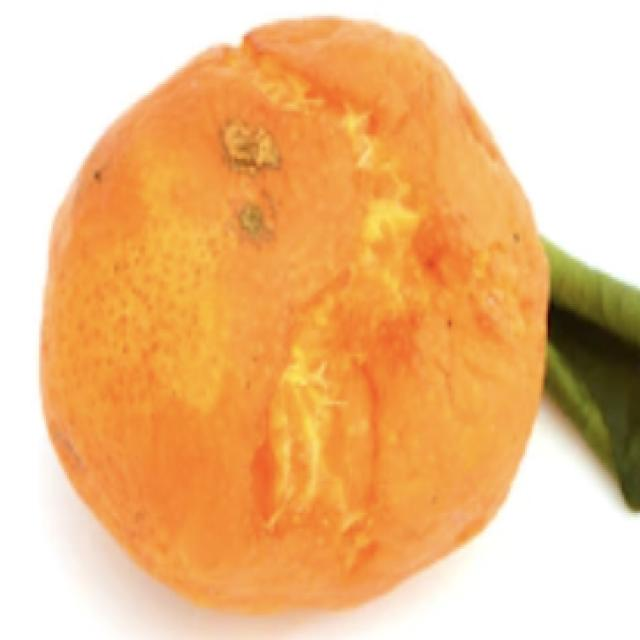rotten-orange: (38, 19, 552, 603)
